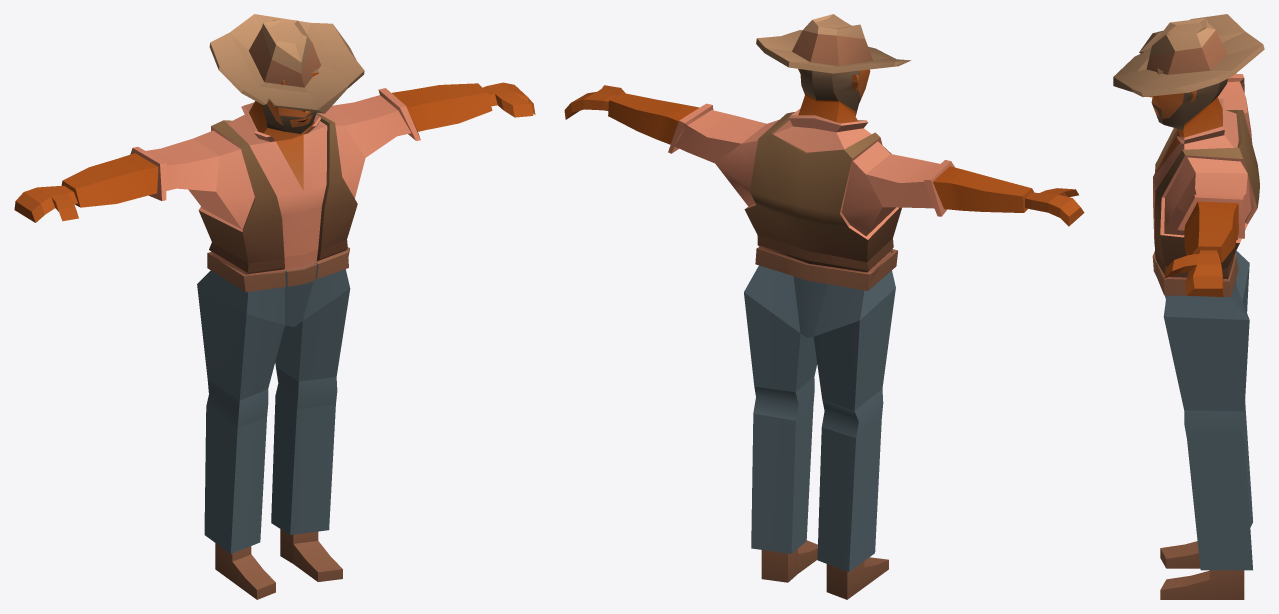
File: indiana011.fbx
3 views of the same model, side by side, from view 1: azimuth 30°, elevation 25°; view 2: azimuth 150°, elevation 25°; view 3: azimuth 270°, elevation 25° (orthographic).
Visible parts, largest first — view 1: polySurface9, polySurface7; view 2: polySurface9, polySurface7; view 3: polySurface9, polySurface7.
Part boxes in pixels (<box>): polySurface9: <box>14,69,535,599</box>; polySurface7: <box>209,14,364,113</box>; polySurface9: <box>564,69,1084,599</box>; polySurface7: <box>756,14,911,73</box>; polySurface9: <box>1151,68,1259,599</box>; polySurface7: <box>1113,14,1264,97</box>.
Size of the model in its own units: 4.73 by 4.92 by 1.22.
Materials: 1 (1 with a texture image).
